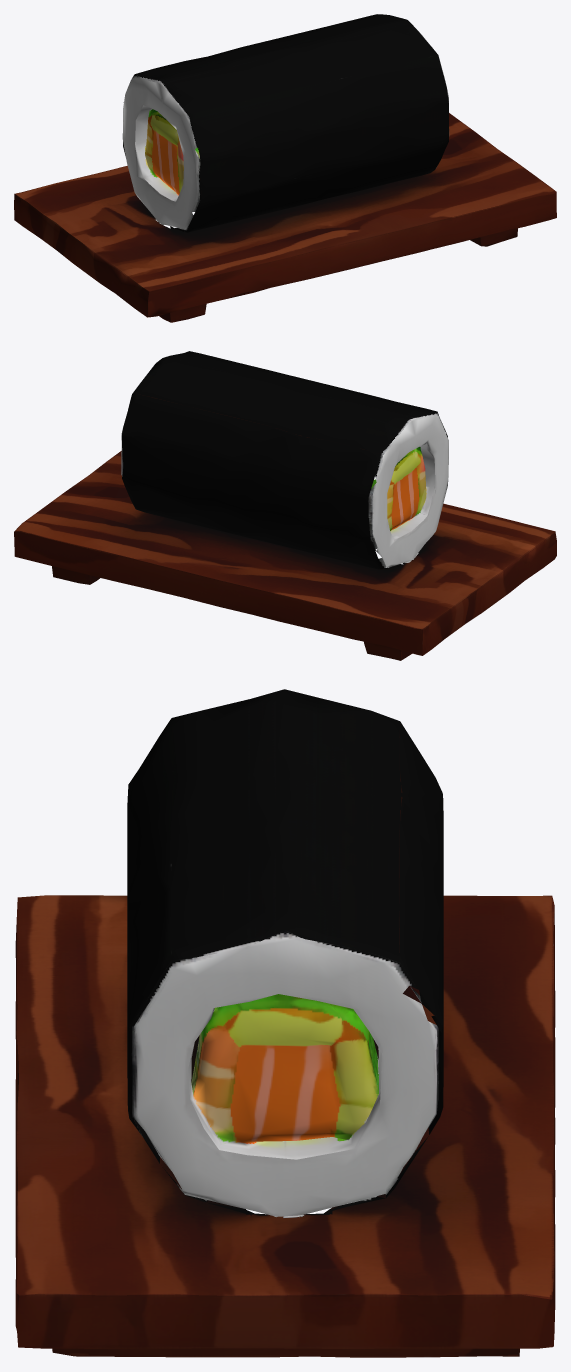
Rendered from futomaki_salmon.glb.
3 renders of one model, top to bottom at view 1: azimuth 30°, elevation 25°; view 2: azimuth 150°, elevation 25°; view 3: azimuth 270°, elevation 25°, orthographic. The views are drawn at different scales.
Visible parts, largest first — view 1: world; view 2: world; view 3: world.
Part boxes in pixels (x1,y1,x2,y2): world: (14, 14, 556, 322); world: (14, 351, 556, 660); world: (15, 689, 555, 1357).
Bounding box in the file's own units: 1 × 0.4444 × 0.5726.
Materials: 1 (1 with a texture image).
